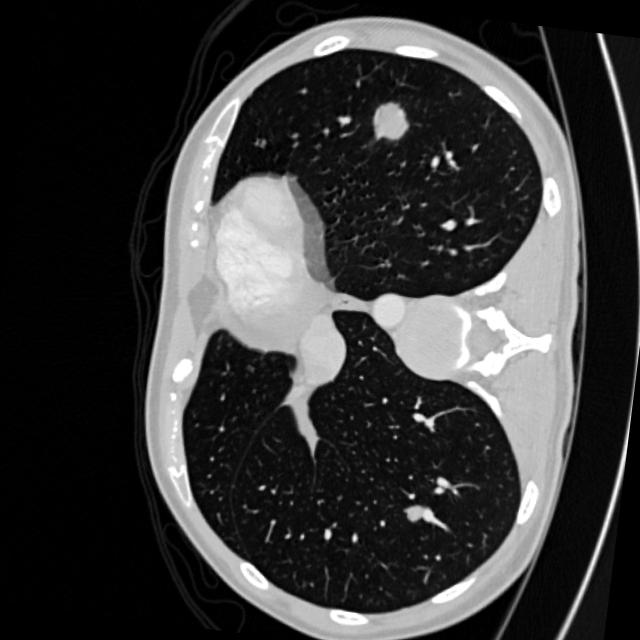nodule: (392, 493, 432, 532)
